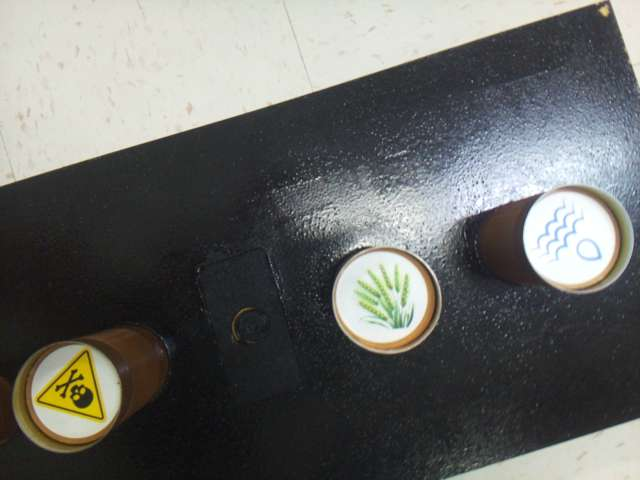toxic_fluid: (30, 345, 121, 439)
water_barrel: (525, 192, 615, 286)
wheat_barrel: (335, 251, 427, 344)
